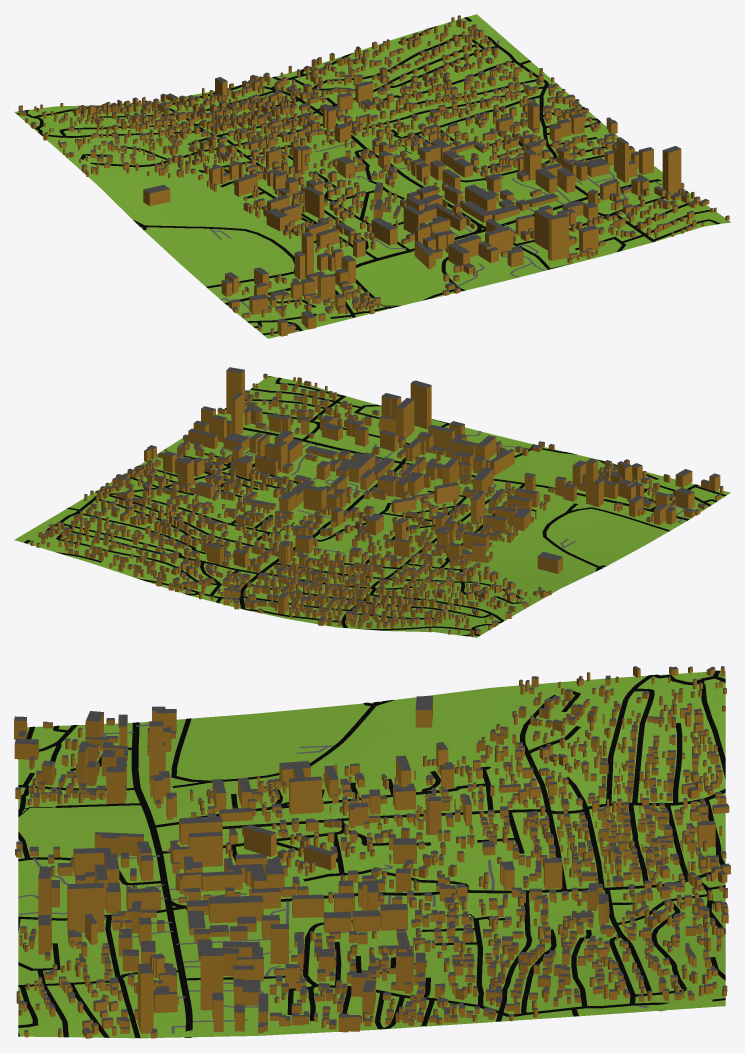
File: tile_09_05.glb
3 renders of one model, top to bottom at view 1: azimuth 30°, elevation 25°; view 2: azimuth 150°, elevation 25°; view 3: azimuth 270°, elevation 25°, orthographic. The views are drawn at different scales.
Parts seen in each view (by area): view 1: Ub_small.osm_buildings_09_05, Terrain_09_05, Ub_small.osm_roads_residential_09_05, Ub_small.osm_roads_service_09_05, Ub_small.osm_roads_primary_09_05; view 2: Ub_small.osm_buildings_09_05, Terrain_09_05, Ub_small.osm_roads_residential_09_05, Ub_small.osm_roads_service_09_05, Ub_small.osm_roads_primary_09_05, Ub_small.osm_roads_secondary_09_05; view 3: Ub_small.osm_buildings_09_05, Terrain_09_05, Ub_small.osm_roads_residential_09_05, Ub_small.osm_roads_primary_09_05, Ub_small.osm_roads_service_09_05, Ub_small.osm_roads_secondary_09_05.
Boxes of the visible parts, left/top/right/bottom form: Ub_small.osm_buildings_09_05: left=18, top=15, right=729, bottom=336; Terrain_09_05: left=14, top=14, right=730, bottom=338; Ub_small.osm_roads_residential_09_05: left=16, top=17, right=730, bottom=335; Ub_small.osm_roads_service_09_05: left=209, top=40, right=662, bottom=308; Ub_small.osm_roads_primary_09_05: left=225, top=179, right=661, bottom=304; Ub_small.osm_buildings_09_05: left=30, top=367, right=723, bottom=636; Terrain_09_05: left=14, top=376, right=730, bottom=637; Ub_small.osm_roads_residential_09_05: left=24, top=376, right=726, bottom=636; Ub_small.osm_roads_service_09_05: left=48, top=419, right=684, bottom=553; Ub_small.osm_roads_primary_09_05: left=243, top=427, right=689, bottom=520; Ub_small.osm_roads_secondary_09_05: left=239, top=462, right=410, bottom=609; Ub_small.osm_buildings_09_05: left=14, top=666, right=730, bottom=1038; Terrain_09_05: left=18, top=670, right=725, bottom=1038; Ub_small.osm_roads_residential_09_05: left=18, top=670, right=725, bottom=1037; Ub_small.osm_roads_primary_09_05: left=131, top=722, right=192, bottom=1037; Ub_small.osm_roads_service_09_05: left=18, top=722, right=665, bottom=1033; Ub_small.osm_roads_secondary_09_05: left=166, top=871, right=711, bottom=910.
Bounding box in the file's own units: 990 × 94.41 × 943.
